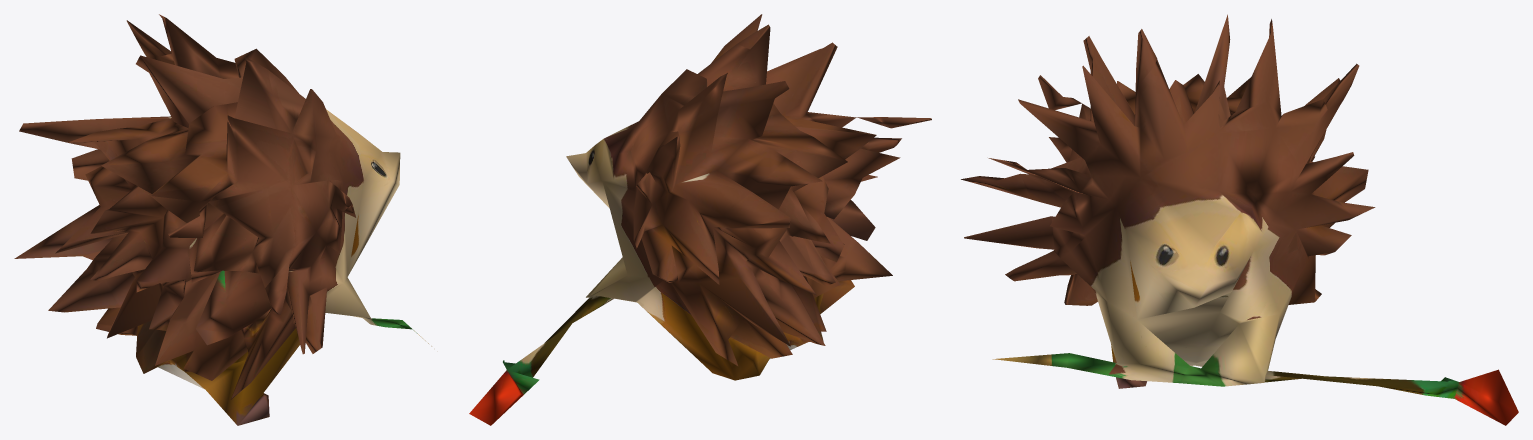
The model's file is hedgehog.glb.
The picture shows the model from 3 angles, left to right: view 1: azimuth 30°, elevation 25°; view 2: azimuth 150°, elevation 25°; view 3: azimuth 270°, elevation 25°; orthographic projection. The views are drawn at different scales.
Parts seen in each view (by area): view 1: tripo_node_75069076-054b-4b3d-86e1-e4014d0d88d2; view 2: tripo_node_75069076-054b-4b3d-86e1-e4014d0d88d2; view 3: tripo_node_75069076-054b-4b3d-86e1-e4014d0d88d2.
Part boxes in pixels (<box>): tripo_node_75069076-054b-4b3d-86e1-e4014d0d88d2: <box>14,14,431,425</box>; tripo_node_75069076-054b-4b3d-86e1-e4014d0d88d2: <box>469,14,931,425</box>; tripo_node_75069076-054b-4b3d-86e1-e4014d0d88d2: <box>961,14,1518,425</box>.
Bounding box in the file's own units: 0.6331 × 0.6748 × 0.9661.
1 material, 1 textured.
